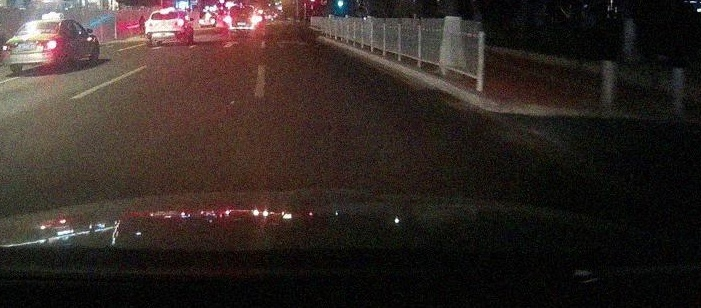L_light: (3, 44, 18, 50), (145, 22, 153, 27)
R_light: (37, 40, 57, 49), (172, 20, 184, 26)
T_light: (38, 22, 46, 25), (160, 12, 169, 14)
night-brake: (145, 9, 187, 46)
night-right: (2, 20, 63, 72)
